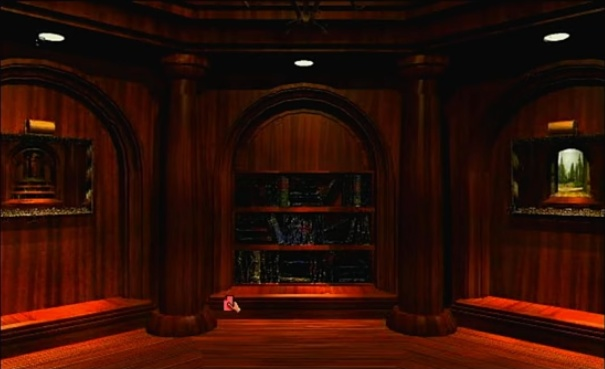Keep: (221, 292, 243, 314)
